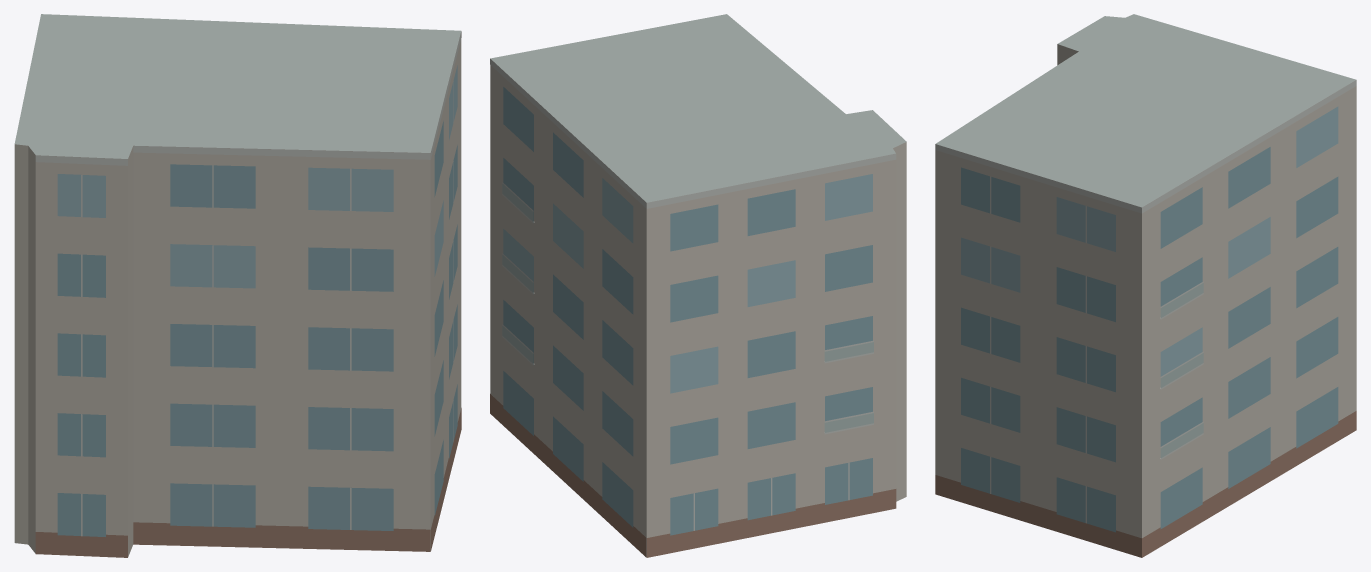
Rendered from survey-upis-32865178.glb.
3 renders of one model, left to right at view 1: azimuth 30°, elevation 25°; view 2: azimuth 150°, elevation 25°; view 3: azimuth 270°, elevation 25°, orthographic. The views are drawn at different scales.
Parts seen in each view (by area): view 1: survey-upis-32865178.tmp; view 2: survey-upis-32865178.tmp; view 3: survey-upis-32865178.tmp.
Part boxes in pixels (x1,y1,x2,y2): survey-upis-32865178.tmp: (14, 14, 461, 557); survey-upis-32865178.tmp: (490, 14, 906, 557); survey-upis-32865178.tmp: (935, 14, 1356, 557).
Bounding box in the file's own units: 16.83 × 14.2 × 15.49.
